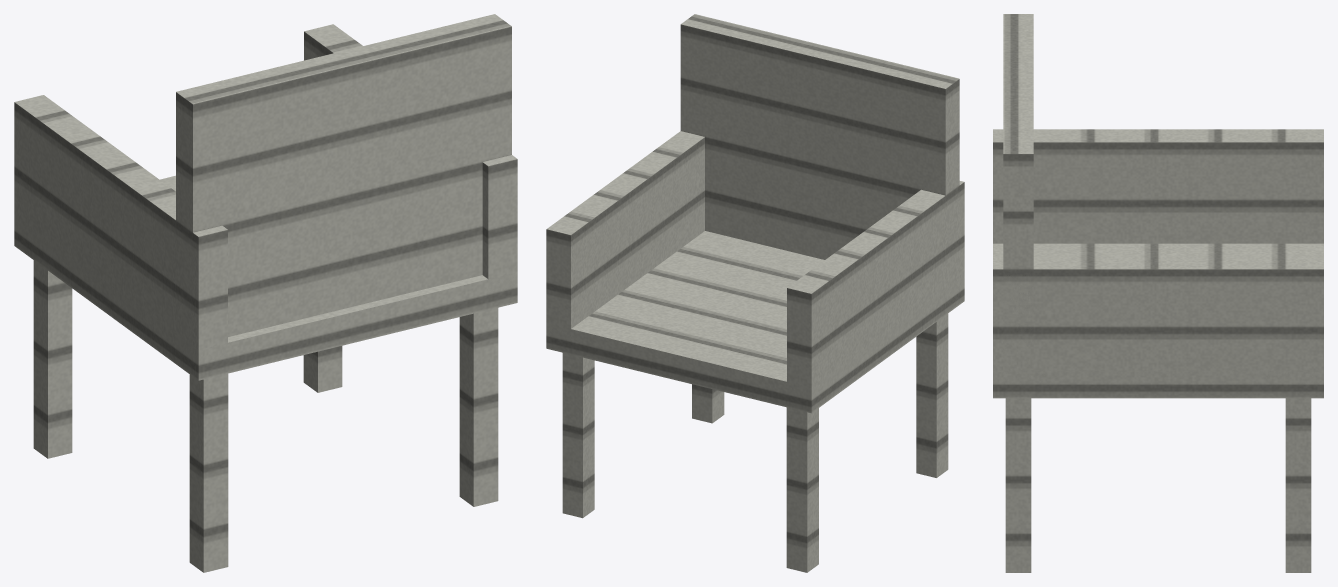
Rendered from wicker_rattan_chair.glb.
3 views of the same model, side by side, from view 1: azimuth 30°, elevation 25°; view 2: azimuth 150°, elevation 25°; view 3: azimuth 270°, elevation 25° (orthographic). The views are drawn at different scales.
Parts seen in each view (by area): view 1: wicker_rattan_chair-col; view 2: wicker_rattan_chair-col; view 3: wicker_rattan_chair-col.
Part boxes in pixels (x1,y1,x2,y2): wicker_rattan_chair-col: (14, 14, 517, 572); wicker_rattan_chair-col: (546, 14, 964, 572); wicker_rattan_chair-col: (993, 14, 1323, 572).
Bounding box in the file's own units: 0.65 × 0.92 × 0.65.
Materials: 1 (1 with a texture image).
